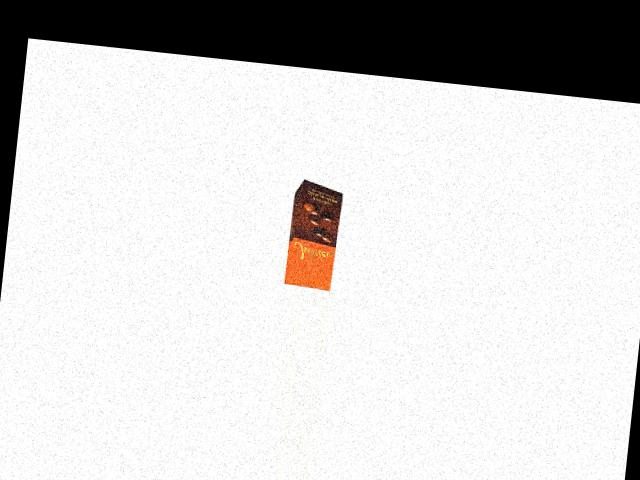chocolate: (281, 179, 350, 290)
